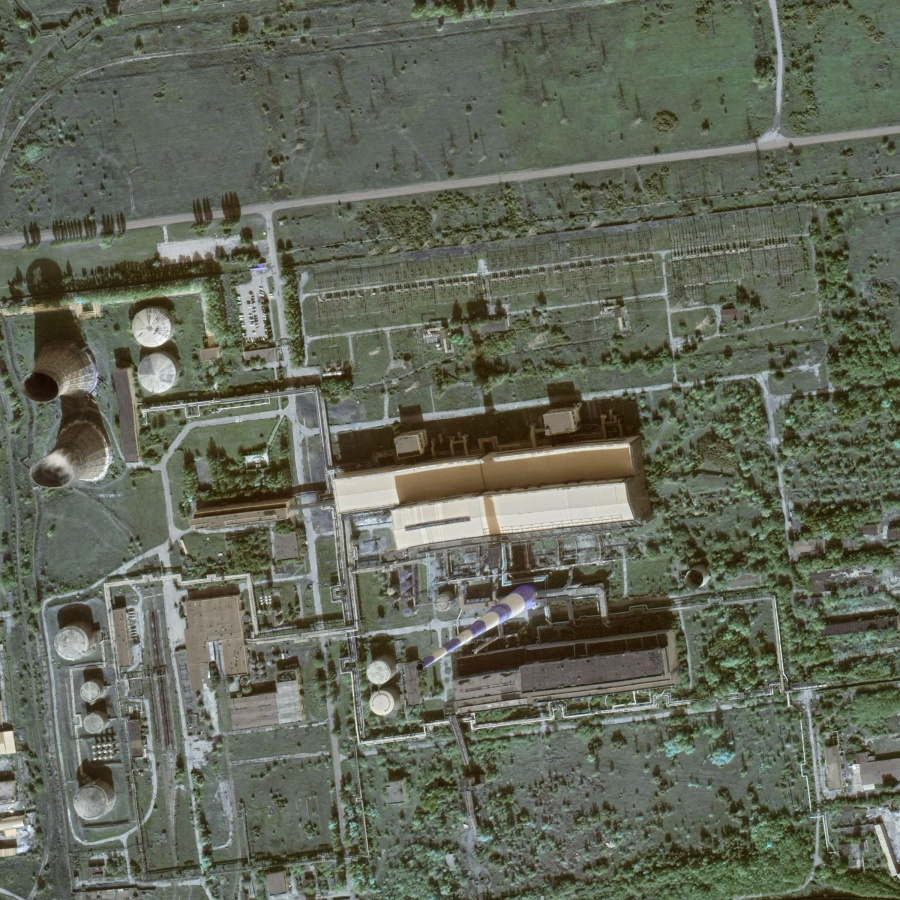PowerPlant: (15, 285, 669, 876)
